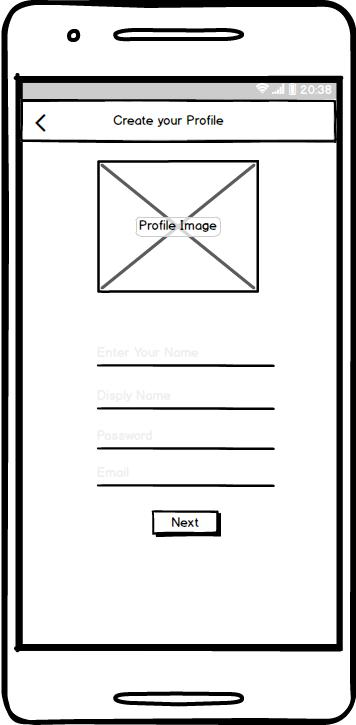EditText: (97, 465, 276, 488), (97, 389, 275, 411), (97, 430, 275, 451), (97, 348, 275, 367)
Icon: (36, 115, 47, 133)
Image: (98, 161, 260, 294)
Text: (114, 115, 224, 128)
TextButton: (152, 510, 221, 537)
Toolbar: (24, 103, 334, 141)
